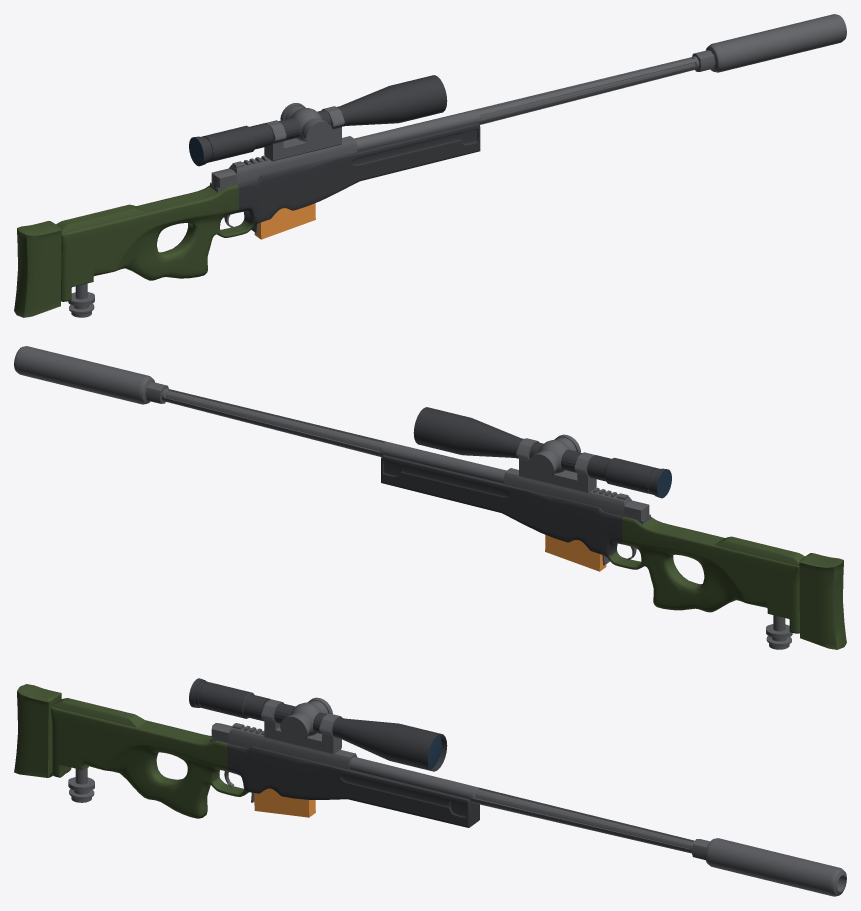
File: sniper.glb
3 views of the same model, one above another, from view 1: azimuth 30°, elevation 25°; view 2: azimuth 150°, elevation 25°; view 3: azimuth 330°, elevation 25° (orthographic).
Visible parts, largest first — view 1: Body1, Scope1, GenerealTexture5, GenerealTexture6, Stock2, GenerealTexture4, GenerealTexture7, Ammunition1, Stock1, GenerealTexture3, GenerealTexture2; view 2: Body1, Scope1, GenerealTexture5, GenerealTexture6, Stock2, GenerealTexture4, GenerealTexture7, Ammunition1, Stock1, GenerealTexture3, GenerealTexture2; view 3: Body1, Scope1, GenerealTexture5, GenerealTexture6, Stock2, GenerealTexture4, GenerealTexture7, Ammunition1, Stock1, GenerealTexture3, GenerealTexture2.
Boxes of the visible parts, bbox=[...] form: Body1: bbox=[61, 122, 480, 301]; Scope1: bbox=[194, 75, 447, 165]; GenerealTexture5: bbox=[354, 56, 699, 151]; GenerealTexture6: bbox=[706, 14, 846, 72]; Stock2: bbox=[14, 221, 61, 317]; GenerealTexture4: bbox=[210, 136, 357, 192]; GenerealTexture7: bbox=[264, 106, 344, 161]; Ammunition1: bbox=[254, 203, 315, 239]; Stock1: bbox=[56, 204, 145, 233]; GenerealTexture3: bbox=[280, 103, 333, 147]; GenerealTexture2: bbox=[68, 283, 94, 317]; Body1: bbox=[381, 454, 799, 633]; Scope1: bbox=[413, 407, 666, 497]; GenerealTexture5: bbox=[161, 388, 506, 483]; GenerealTexture6: bbox=[14, 346, 154, 404]; Stock2: bbox=[799, 553, 846, 649]; GenerealTexture4: bbox=[503, 468, 650, 524]; GenerealTexture7: bbox=[516, 438, 596, 493]; Ammunition1: bbox=[545, 535, 606, 571]; Stock1: bbox=[715, 536, 804, 565]; GenerealTexture3: bbox=[528, 434, 580, 479]; GenerealTexture2: bbox=[766, 615, 792, 649]; Body1: bbox=[50, 707, 479, 827]; Scope1: bbox=[189, 678, 447, 771]; GenerealTexture5: bbox=[349, 756, 694, 853]; GenerealTexture6: bbox=[705, 838, 846, 896]; Stock2: bbox=[14, 684, 61, 777]; GenerealTexture4: bbox=[210, 723, 356, 769]; GenerealTexture7: bbox=[261, 699, 342, 754]; Ammunition1: bbox=[254, 788, 315, 817]; Stock1: bbox=[51, 698, 146, 727]; GenerealTexture3: bbox=[280, 697, 332, 742]; GenerealTexture2: bbox=[68, 766, 94, 802].
Bounding box in the file's own units: 1.18 × 0.2073 × 0.0651.
